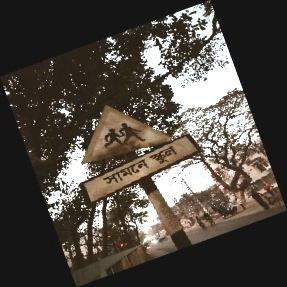School-in-front: (79, 104, 199, 205)
